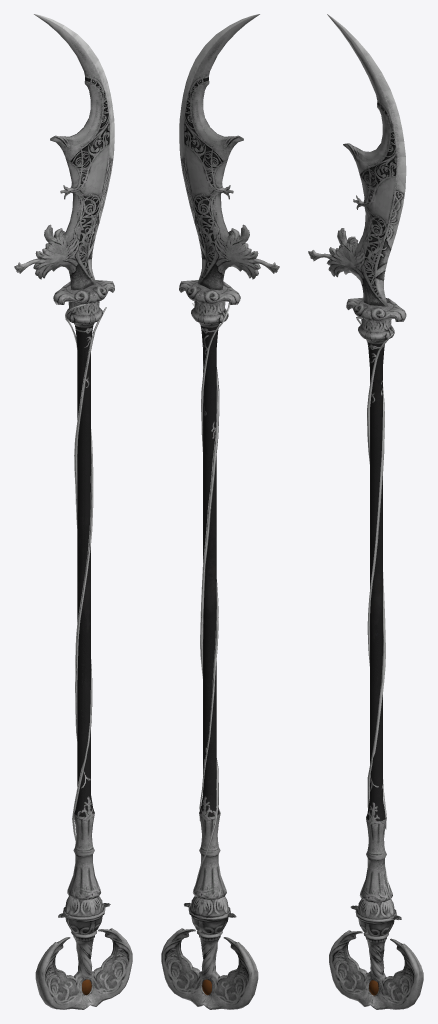
File: so_pd_lorettasickle.glb
The picture shows the model from 3 angles, left to right: view 1: azimuth 30°, elevation 25°; view 2: azimuth 150°, elevation 25°; view 3: azimuth 330°, elevation 25°; orthographic projection. The views are drawn at different scales.
Parts seen in each view (by area): view 1: Warsickle; view 2: Warsickle; view 3: Warsickle.
Boxes of the visible parts, x1,y1,x2,y2 form: Warsickle: (14, 14, 132, 1009); Warsickle: (161, 14, 279, 1009); Warsickle: (308, 14, 423, 1009).
Size of the model in its own units: 14.82 by 123 by 4.98.
1 material, 1 textured.
